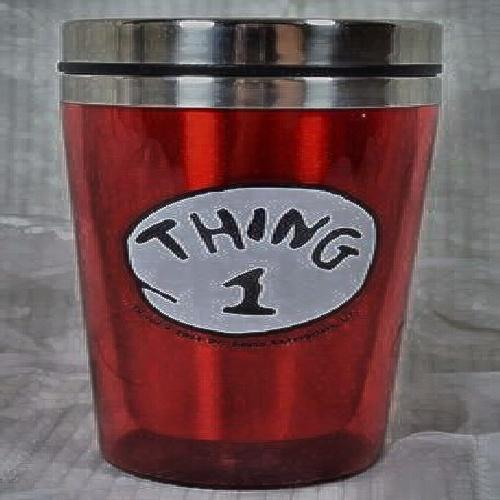mug: (63, 30, 429, 463)
